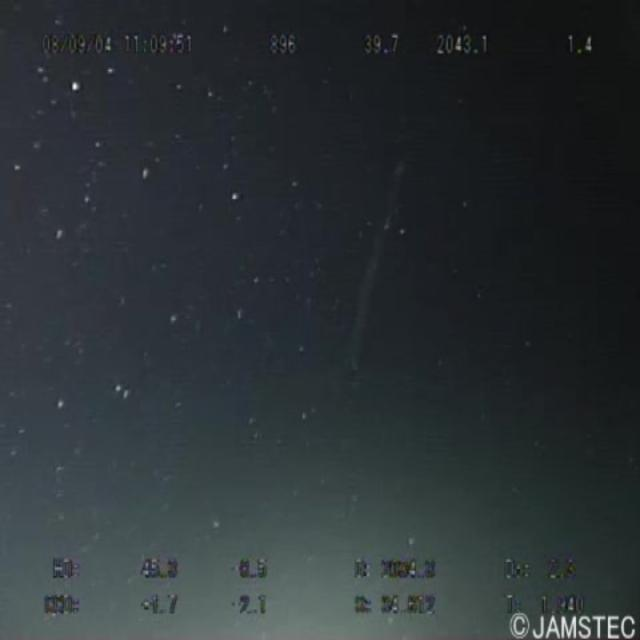Metal: (342, 117, 419, 418)
